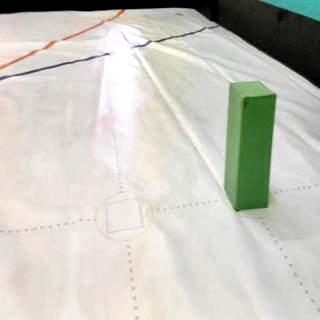greenbox: (224, 80, 278, 212)
